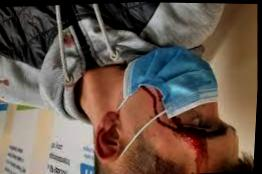Fire: (159, 116, 211, 173), (142, 85, 166, 113), (65, 32, 76, 47), (0, 79, 10, 87)
